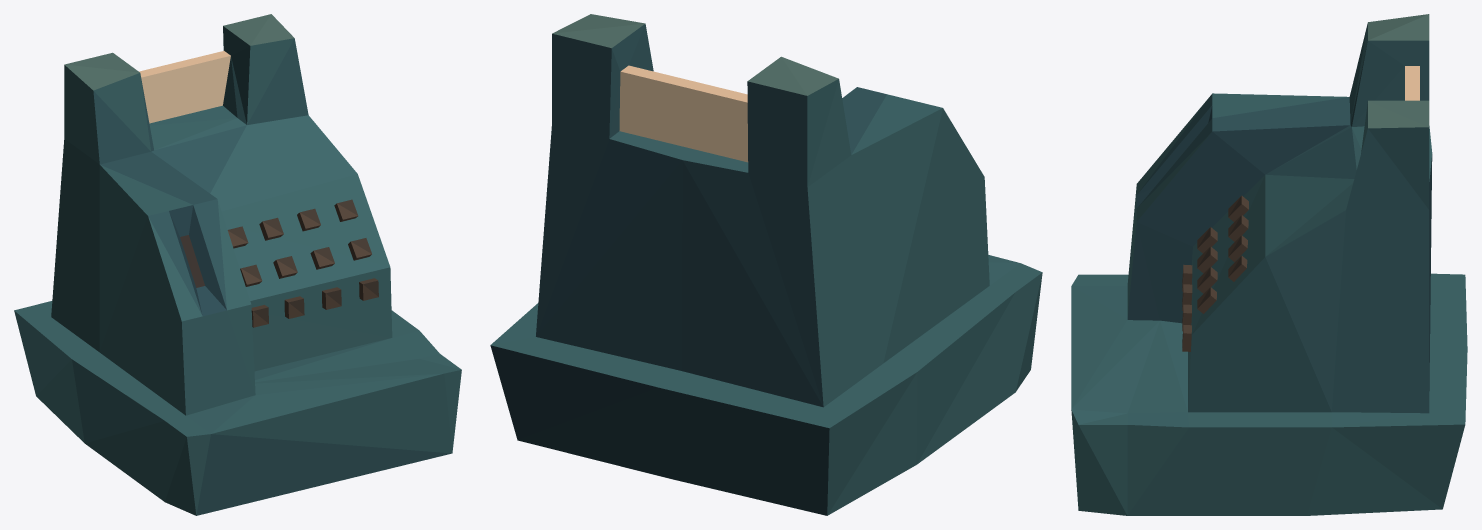
The model's file is cash_register_downstairs.fbx.
3 renders of one model, left to right at view 1: azimuth 30°, elevation 25°; view 2: azimuth 150°, elevation 25°; view 3: azimuth 270°, elevation 25°, orthographic. The views are drawn at different scales.
Visible parts, largest first — view 1: cash_register; view 2: cash_register; view 3: cash_register.
Part boxes in pixels (x1=…): cash_register: x1=14, y1=14, x2=461, y2=515; cash_register: x1=490, y1=14, x2=1042, y2=515; cash_register: x1=1071, y1=14, x2=1467, y2=515.
Bounding box in the file's own units: 37.15 × 40.63 × 39.39.
